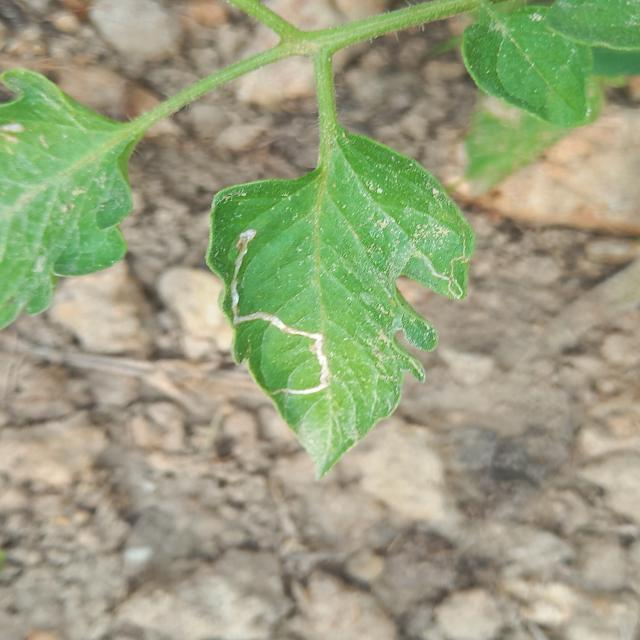Tuta absoluta: (194, 224, 347, 412)
